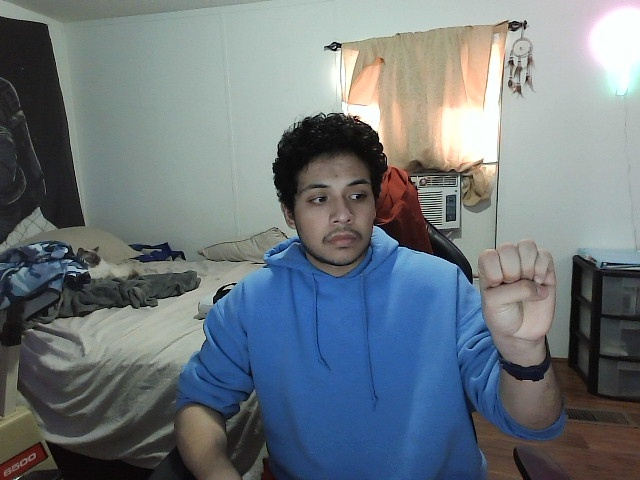E: (470, 235, 558, 344)
